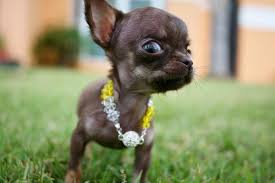chihuahua: (49, 2, 213, 177)
